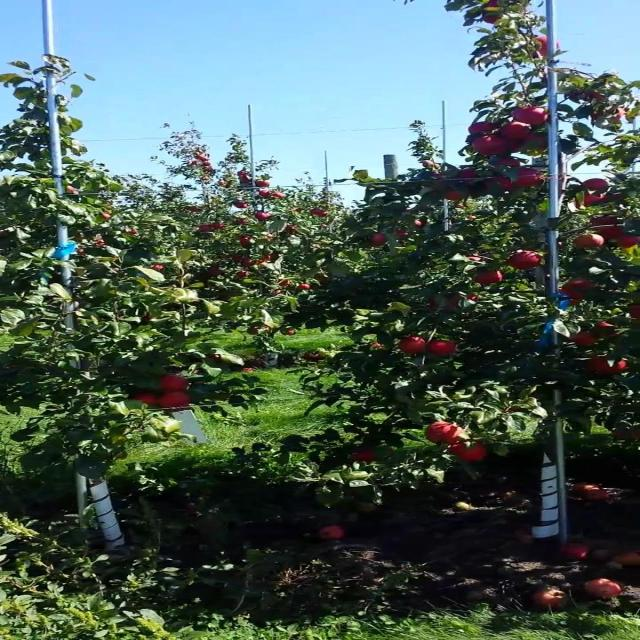apple: (447, 444, 491, 464), (426, 424, 462, 445), (561, 280, 596, 299), (433, 296, 476, 311), (511, 136, 548, 153), (476, 136, 505, 157), (589, 360, 629, 375), (440, 296, 478, 311), (511, 252, 540, 271), (397, 336, 427, 353), (589, 108, 628, 121), (518, 108, 549, 124), (163, 392, 192, 408), (540, 36, 562, 57), (518, 172, 546, 188), (447, 296, 478, 310), (163, 376, 190, 392), (504, 124, 533, 138), (476, 272, 505, 285), (582, 180, 612, 192), (433, 340, 455, 356), (575, 236, 604, 248), (468, 124, 498, 135), (575, 332, 597, 347), (596, 324, 619, 336), (589, 216, 619, 225), (490, 180, 512, 192), (355, 452, 377, 464), (604, 228, 626, 240), (618, 236, 639, 248), (618, 428, 639, 440), (582, 196, 604, 207), (134, 396, 158, 404), (497, 160, 521, 168), (483, 16, 503, 24), (447, 192, 464, 200), (589, 92, 604, 101), (461, 172, 476, 180), (376, 236, 388, 245), (632, 304, 639, 319), (490, 0, 500, 8), (397, 232, 407, 236)
